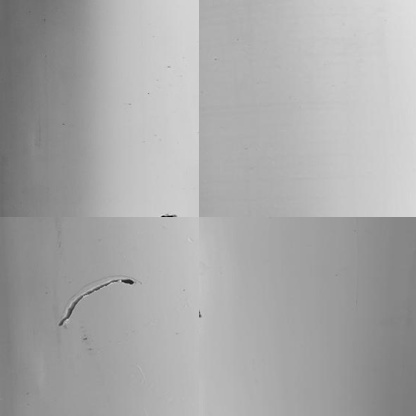fengxi: (52, 273, 139, 331)
